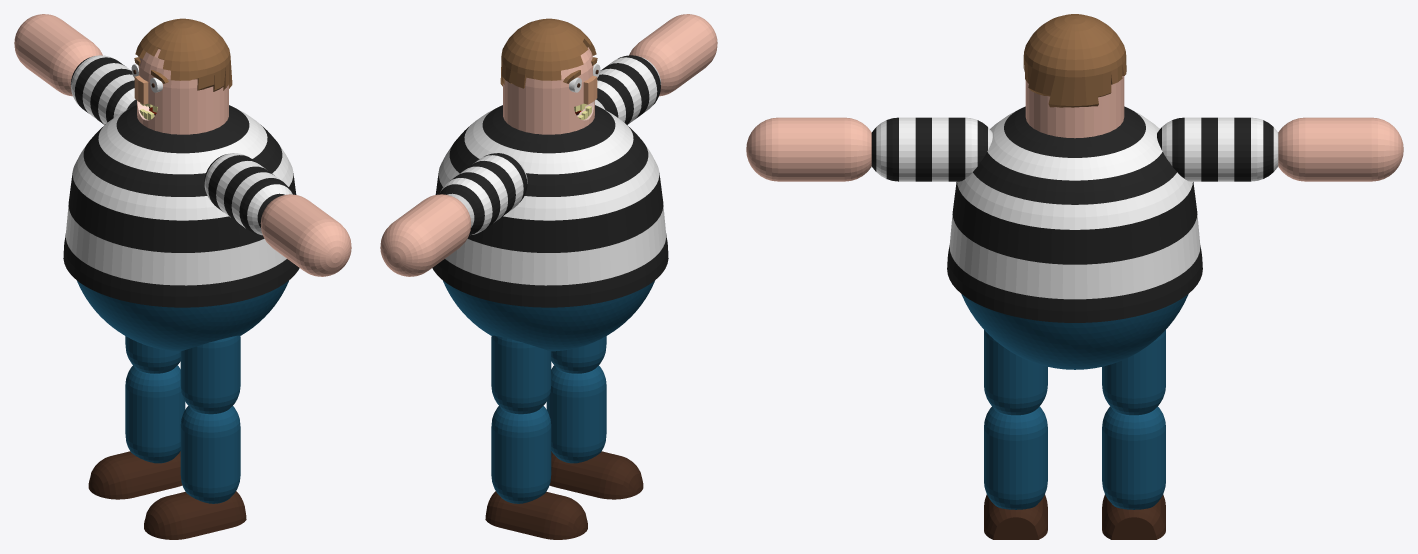
File: Charater.fbx
The picture shows the model from 3 angles, left to right: view 1: azimuth 30°, elevation 25°; view 2: azimuth 150°, elevation 25°; view 3: azimuth 270°, elevation 25°; orthographic projection. The views are drawn at different scales.
Visible parts, largest first — view 1: guy; view 2: guy; view 3: guy.
Boxes of the visible parts, x1=… form: guy: x1=14, y1=14, x2=351, y2=539; guy: x1=380, y1=14, x2=717, y2=539; guy: x1=746, y1=14, x2=1403, y2=539.
Size of the model in its own units: 104 by 228 by 267.
